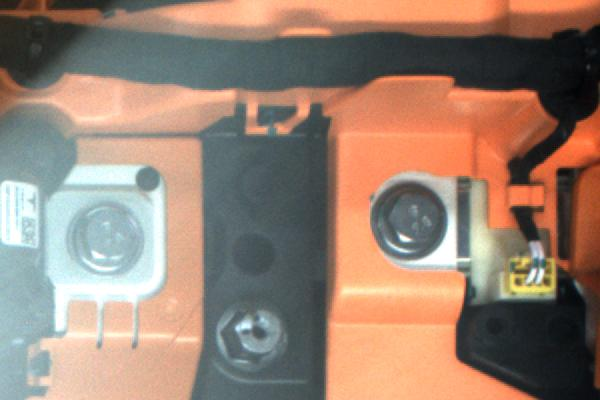nut_b: (364, 176, 452, 268)
